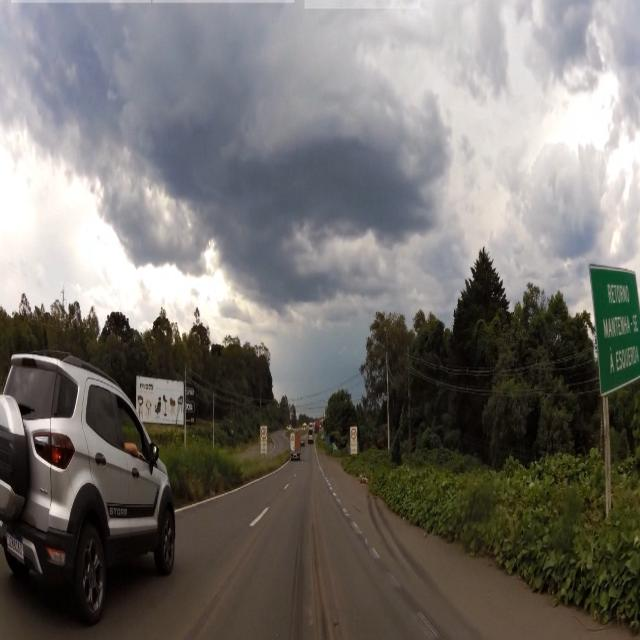I-4: (589, 271, 640, 400)
